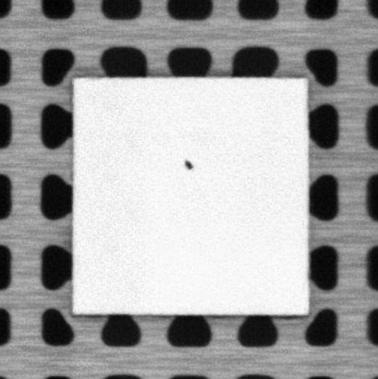DIE_INK: (181, 157, 195, 170)
